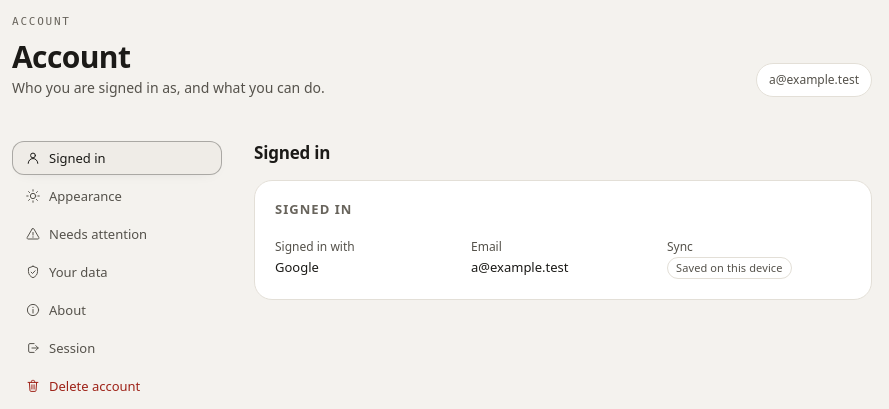
the account screen › says signing out keeps local records
Click the button "Session" at (117, 348), box top-left (12, 331), bottom-right (222, 365)
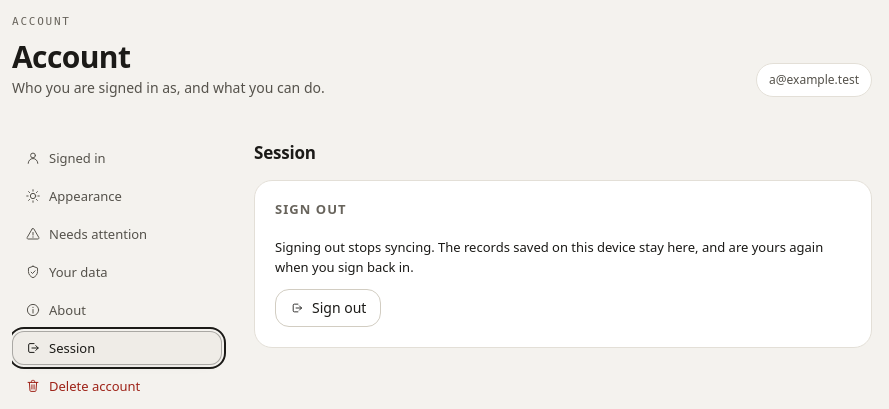
Now the text "records saved on this device stay here" is shown, box top-left (275, 238), bottom-right (823, 276)
